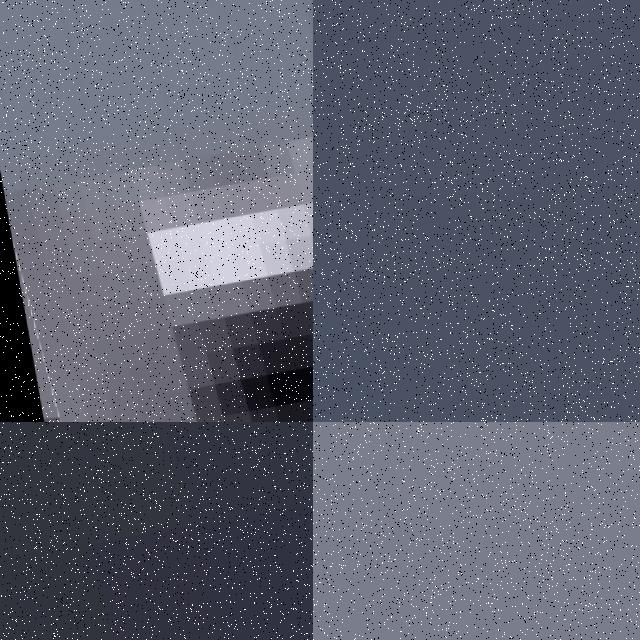drone: (0, 0, 313, 422), (0, 422, 313, 640)
